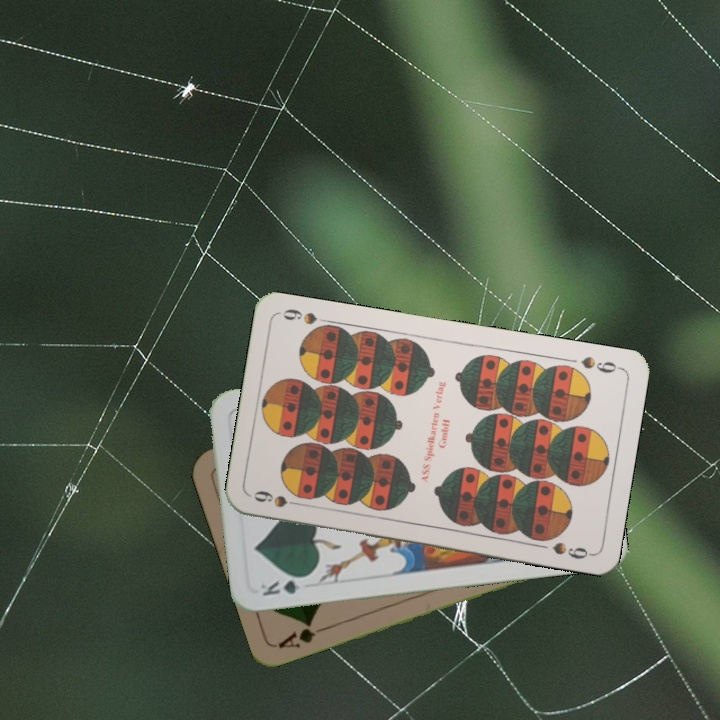GA: (274, 618, 331, 651)
GK: (256, 572, 313, 599)
S9: (250, 486, 308, 510), (577, 352, 624, 376)
